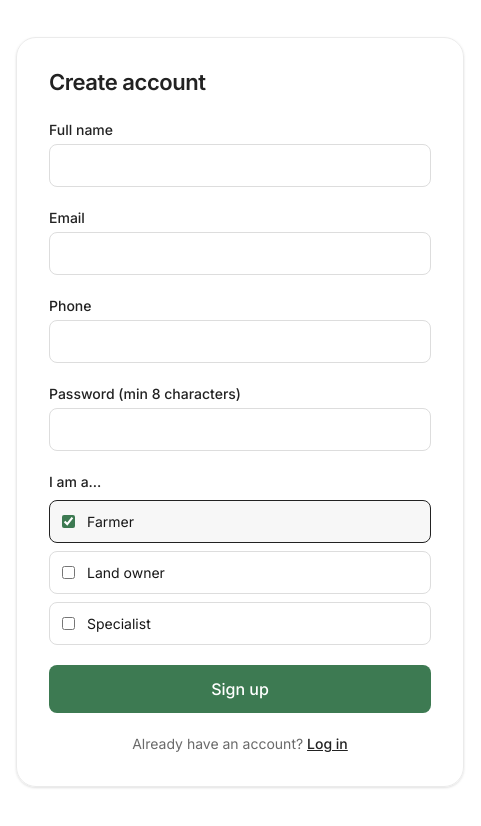
Test: RegisterPage › shows error on registration failure
This screenshot has width=481, height=826.
Type "Alice Farmer" into the field below "Full name" at (240, 166), box left=49, top=144, right=431, bottom=188
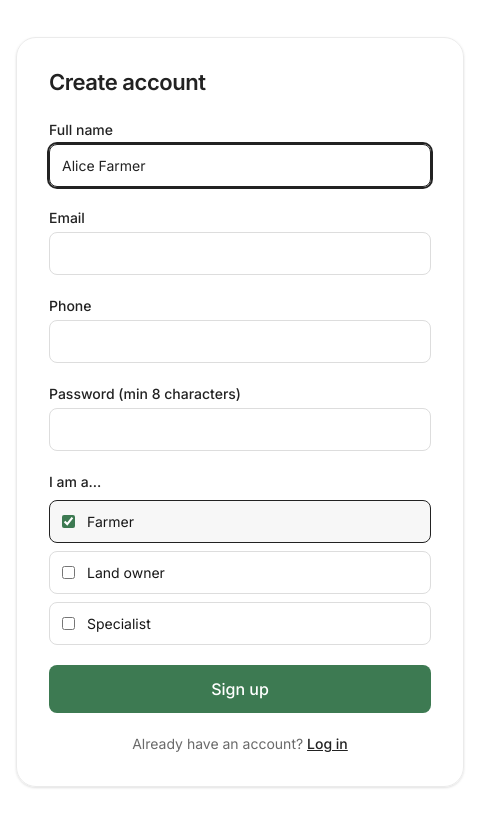
Type "alice@farm.com" into the field below "Email" at (240, 254), box left=49, top=232, right=431, bottom=276
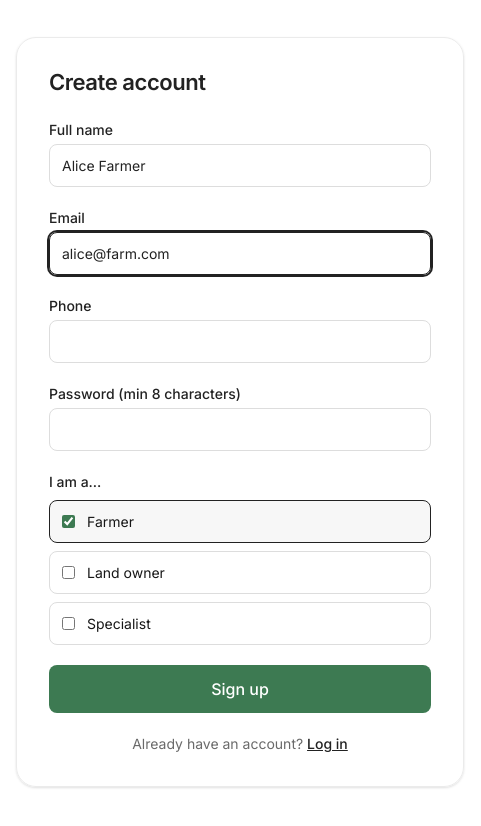
Type "secure123" into the password field at (240, 430), box left=49, top=408, right=431, bottom=452
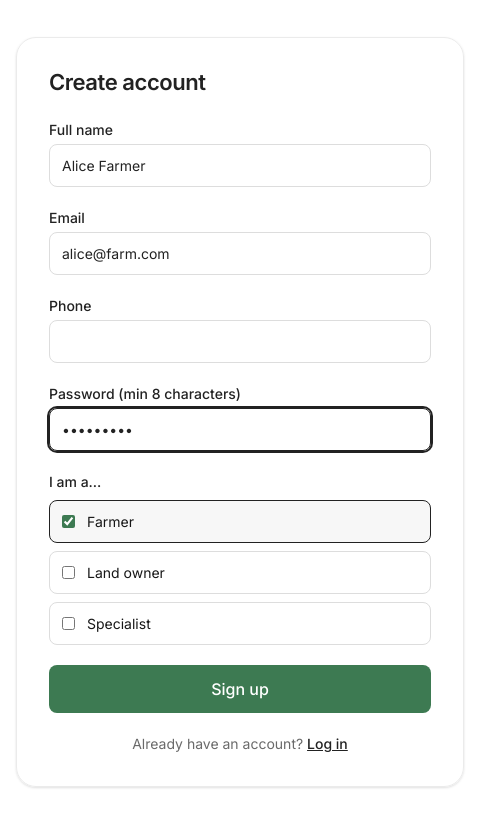
Submit the form, box left=49, top=120, right=431, bottom=714
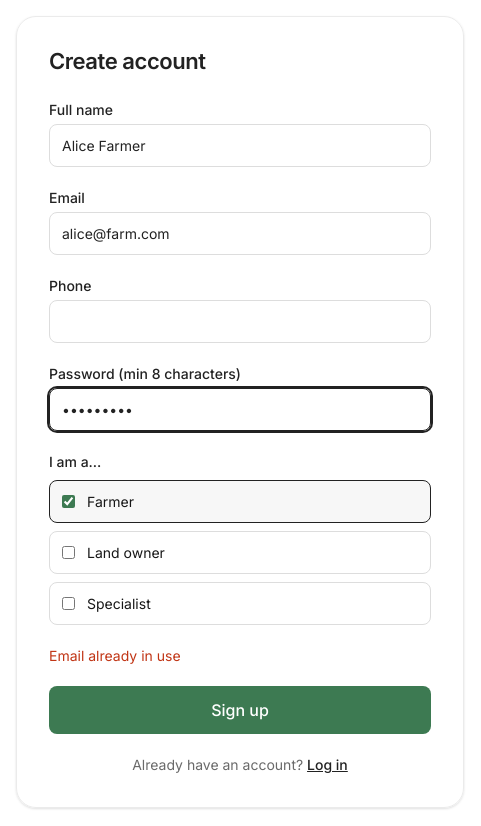
Expected: the message reads "Email already in use", left=49, top=647, right=181, bottom=664
